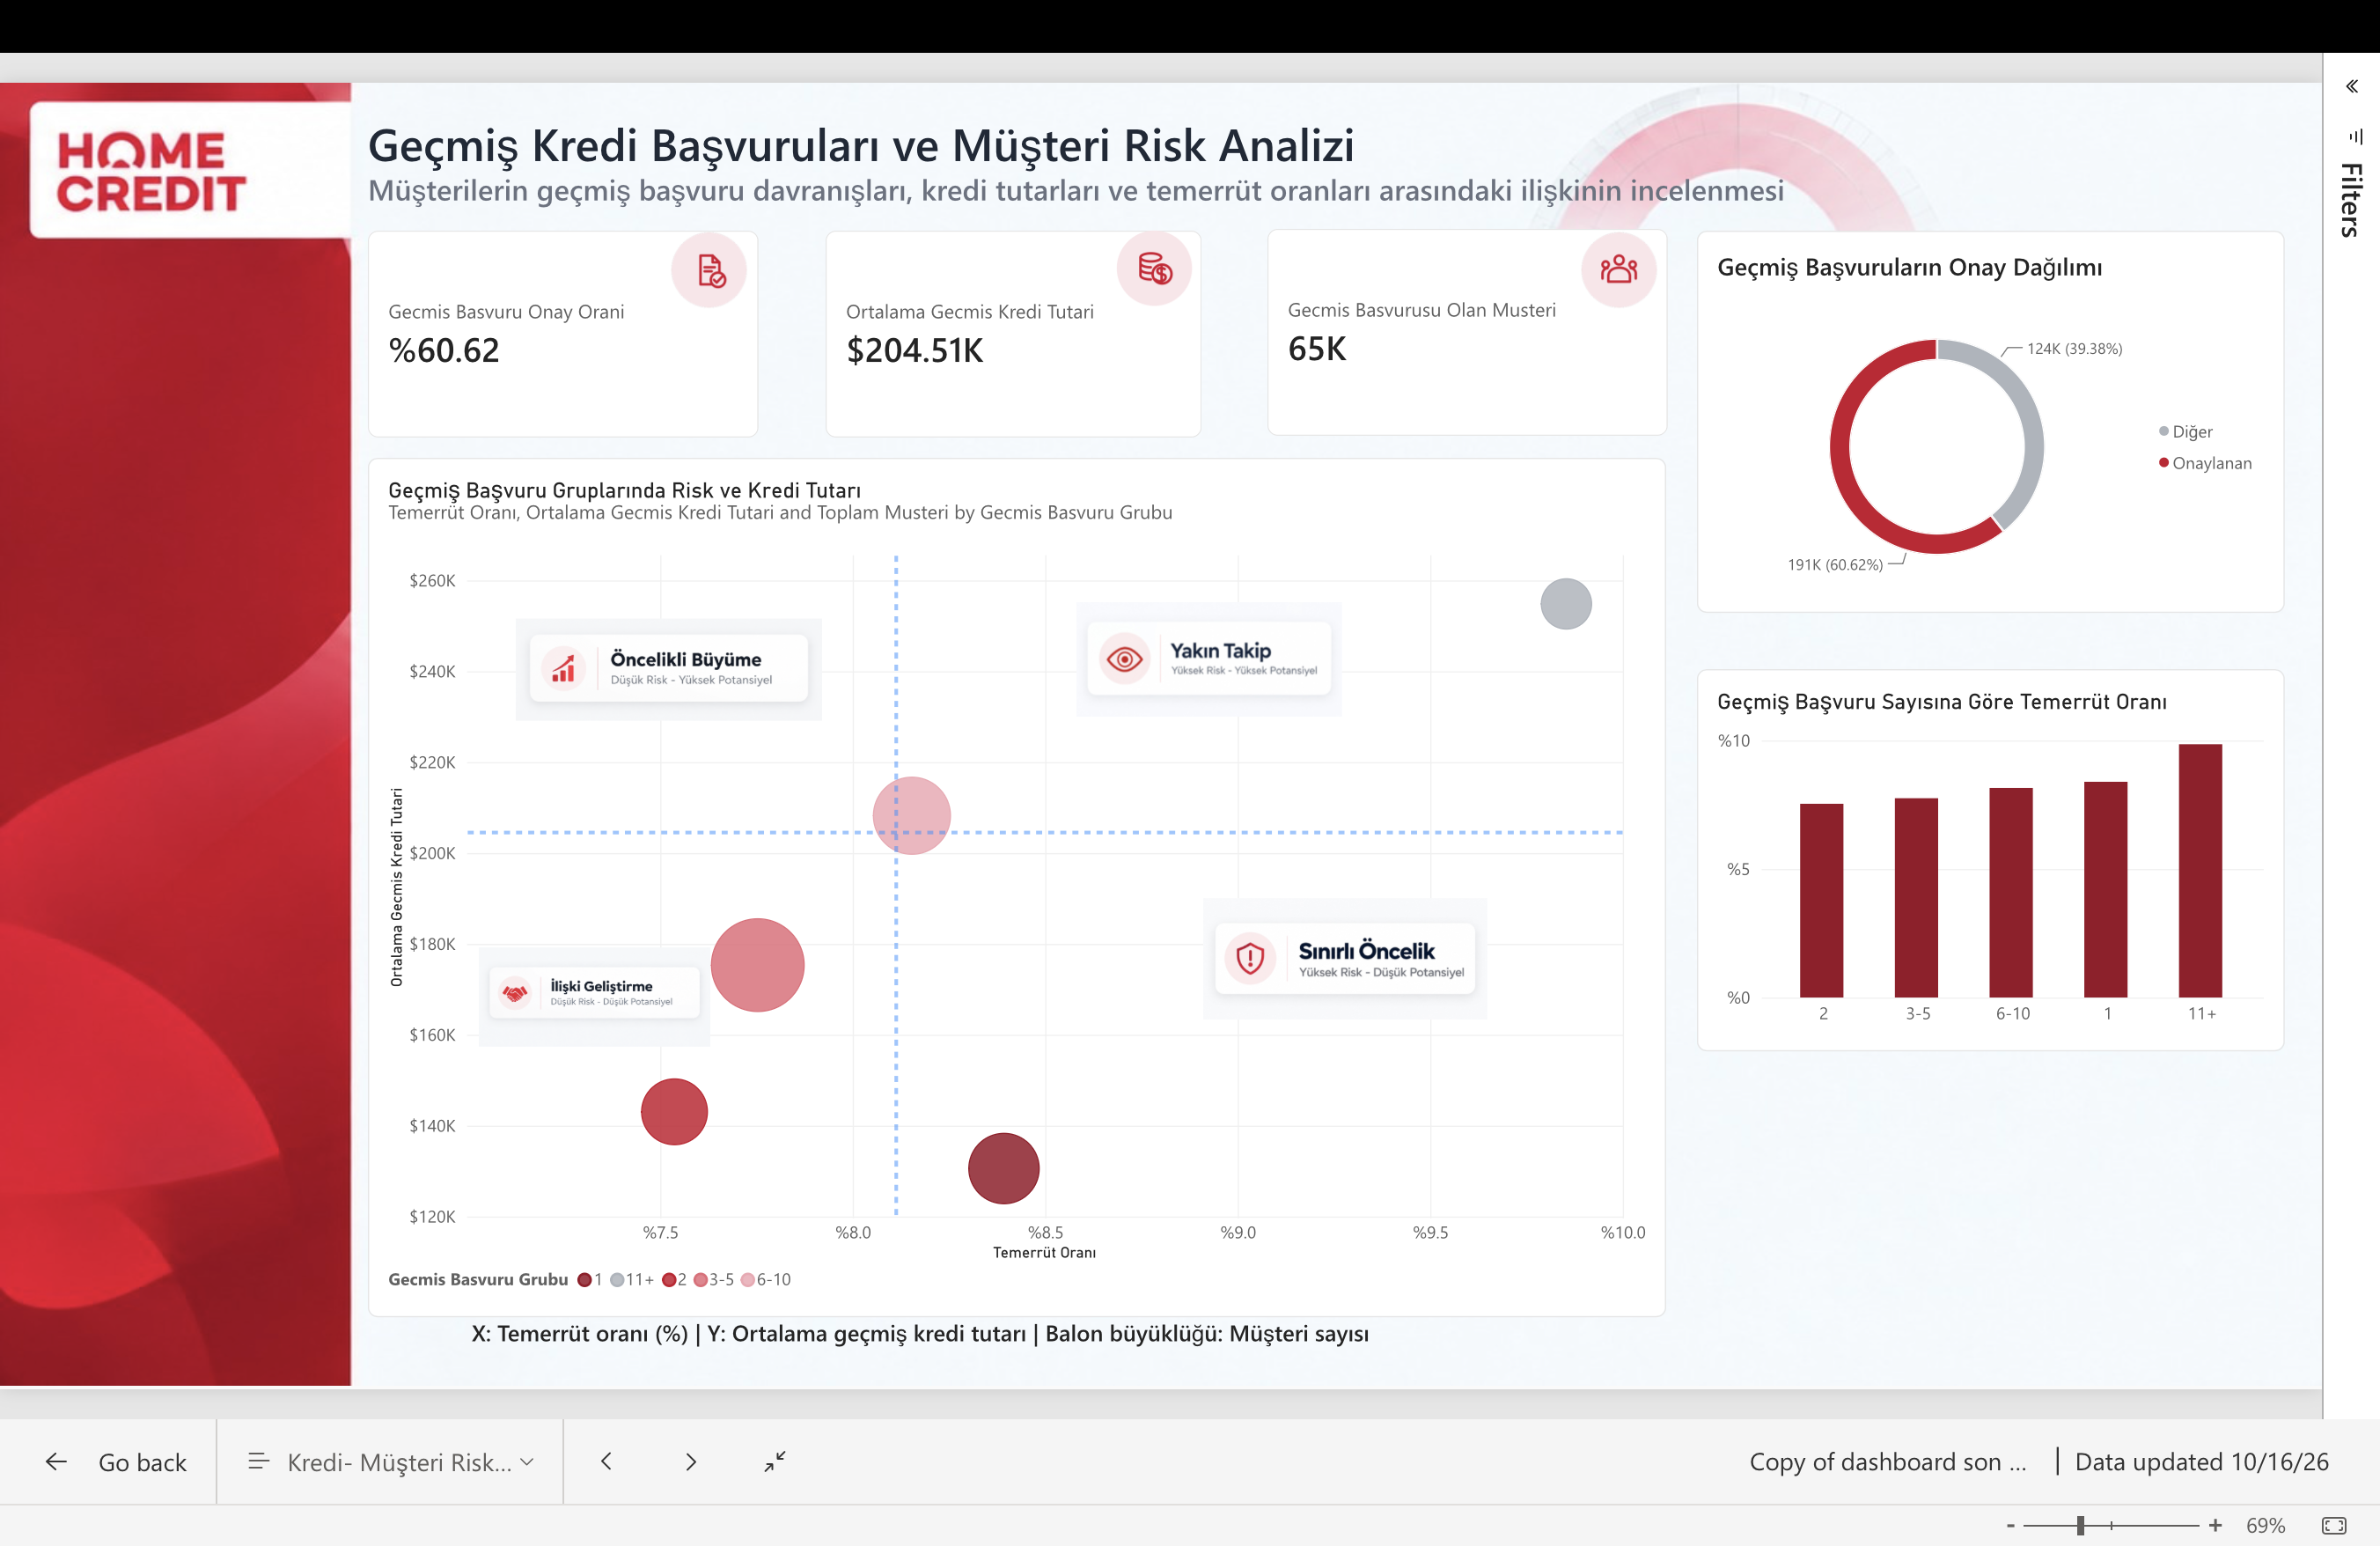

This screenshot's page, from the dashboard's own definition file:
{"tool":"powerbi","page":{"name":"Kredi- Müşteri Risk Analizi","canvas":[1920,1080],"ordinal":3},"visuals":[{"type":"cardVisual","fields":{"Data":["mart_customer_risk_value.Gecmis Basvuru Onay Orani"]},"box":[304.5,122.6,323.9,171.4],"z":0},{"type":"cardVisual","fields":{"Data":["mart_customer_risk_value.Ortalama Gecmis Kredi Tutari"]},"box":[682.6,122.9,311.1,171.6],"z":1000},{"type":"cardVisual","fields":{"Data":["mart_customer_risk_value.Gecmis Basvurusu Olan Musteri"]},"box":[1047.9,121.5,331.5,171.6],"z":2000},{"type":"lineStackedColumnComboChart","title":"Geçmiş Başvuru Sayısına Göre Temerrüt Oranı","fields":{"Category":["mart_customer_risk_value.Gecmis Basvuru Grubu"],"Y":["mart_customer_risk_value.Temerrüt Oranı"]},"box":[1403.9,484.6,486.1,315.9],"z":3000},{"type":"donutChart","title":"Geçmiş Başvuruların Onay Dağılımı","fields":{"Series":["Basvuru Durumu.Durum"],"Y":["Basvuru Durumu.Basvuru Durumu Adedi"]},"box":[1403.9,122.9,486.1,315.9],"z":4000},{"type":"scatterChart","title":"Geçmiş Başvuru Gruplarında Risk ve Kredi Tutarı","fields":{"Series":["mart_customer_risk_value.Gecmis Basvuru Grubu"],"Size":["mart_customer_risk_value.Toplam Musteri"],"X":["mart_customer_risk_value.Temerrüt Oranı"],"Y":["mart_customer_risk_value.Ortalama Gecmis Kredi Tutari"]},"box":[304.5,310.2,1073.7,710.5],"z":5000},{"type":"textbox","box":[303.9,25.2,903.4,148.8],"z":6000},{"type":"textbox","box":[304,71.7,1274.5,51],"z":7000},{"type":"textbox","box":[390,1020,902.9,35.9],"z":8000},{"type":"textbox","box":[0,24.5,903,150],"z":9000},{"type":"image","box":[426,428.9,253.6,111.1],"z":10000},{"type":"image","box":[396,694.8,191.6,122.9],"z":11000},{"type":"image","box":[937.8,673.4,350,100.6],"z":12000},{"type":"image","box":[837.8,428.9,322.8,94.3],"z":13000},{"type":"image","box":[547.1,122.9,78,65],"z":13001},{"type":"image","box":[915.7,121.4,78,65],"z":13002},{"type":"image","box":[1300,122.9,78,65],"z":13003}]}

Visuals, with their boxes on the page's 1920x1080 design canvas (x1, y1, x2, y2). These are canvas units, not pixel positions in the 2380x1546 screenshot, which may show the page scaled, cropped or inside an application window:
cardVisual - mart_customer_risk_value.Gecmis Basvuru Onay Orani: Rect(304, 123, 628, 294)
cardVisual - mart_customer_risk_value.Ortalama Gecmis Kredi Tutari: Rect(683, 123, 994, 294)
cardVisual - mart_customer_risk_value.Gecmis Basvurusu Olan Musteri: Rect(1048, 122, 1379, 293)
"Geçmiş Başvuru Sayısına Göre Temerrüt Oranı" lineStackedColumnComboChart: Rect(1404, 485, 1890, 800)
"Geçmiş Başvuruların Onay Dağılımı" donutChart: Rect(1404, 123, 1890, 439)
"Geçmiş Başvuru Gruplarında Risk ve Kredi Tutarı" scatterChart: Rect(304, 310, 1378, 1021)
textbox: Rect(304, 25, 1207, 174)
textbox: Rect(304, 72, 1578, 123)
textbox: Rect(390, 1020, 1293, 1056)
textbox: Rect(0, 24, 903, 174)
image: Rect(426, 429, 680, 540)
image: Rect(396, 695, 588, 818)
image: Rect(938, 673, 1288, 774)
image: Rect(838, 429, 1161, 523)
image: Rect(547, 123, 625, 188)
image: Rect(916, 121, 994, 186)
image: Rect(1300, 123, 1378, 188)
